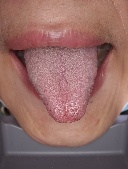tongue: (23, 51, 98, 124)
